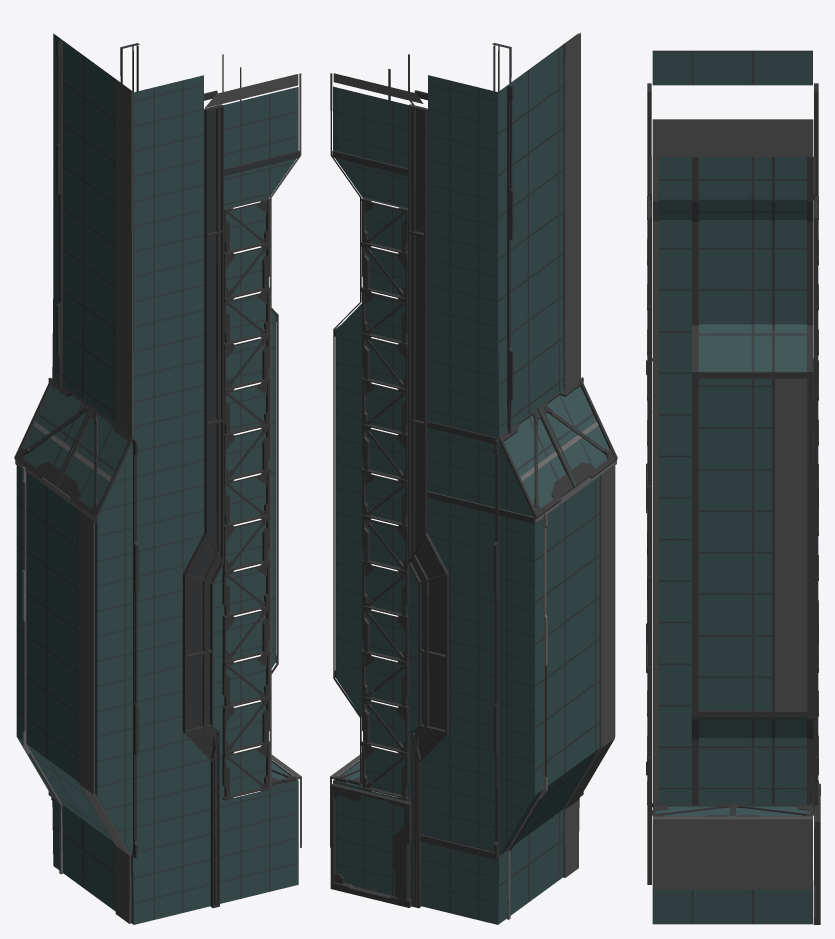
File: building01.glb
3 views of the same model, side by side, from view 1: azimuth 30°, elevation 25°; view 2: azimuth 150°, elevation 25°; view 3: azimuth 270°, elevation 25° (orthographic).
Visible parts, largest first — view 1: building01.low.instance; view 2: building01.low.instance; view 3: building01.low.instance.
Boxes of the visible parts, x1,y1,x2,y2 form: building01.low.instance: (14,33,301,924); building01.low.instance: (330,33,617,924); building01.low.instance: (646,50,820,924).
Size of the model in its own units: 4.34 by 16.68 by 3.18.
Materials: 4 (2 with a texture image).
